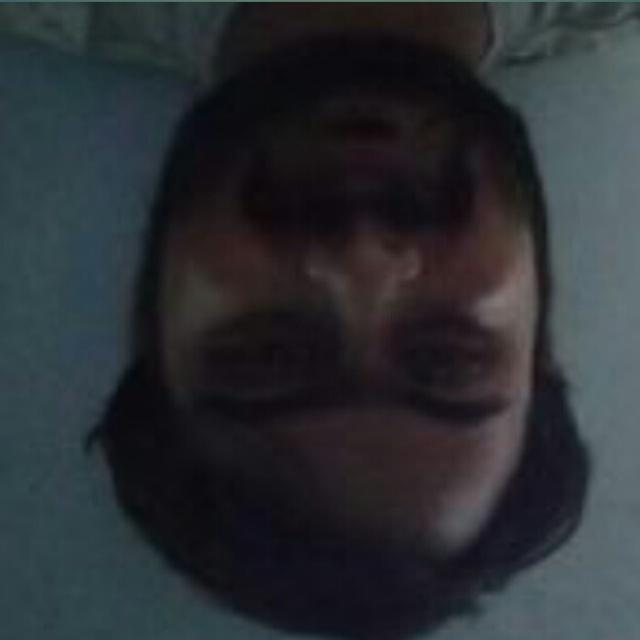Happy: (90, 62, 553, 562)
